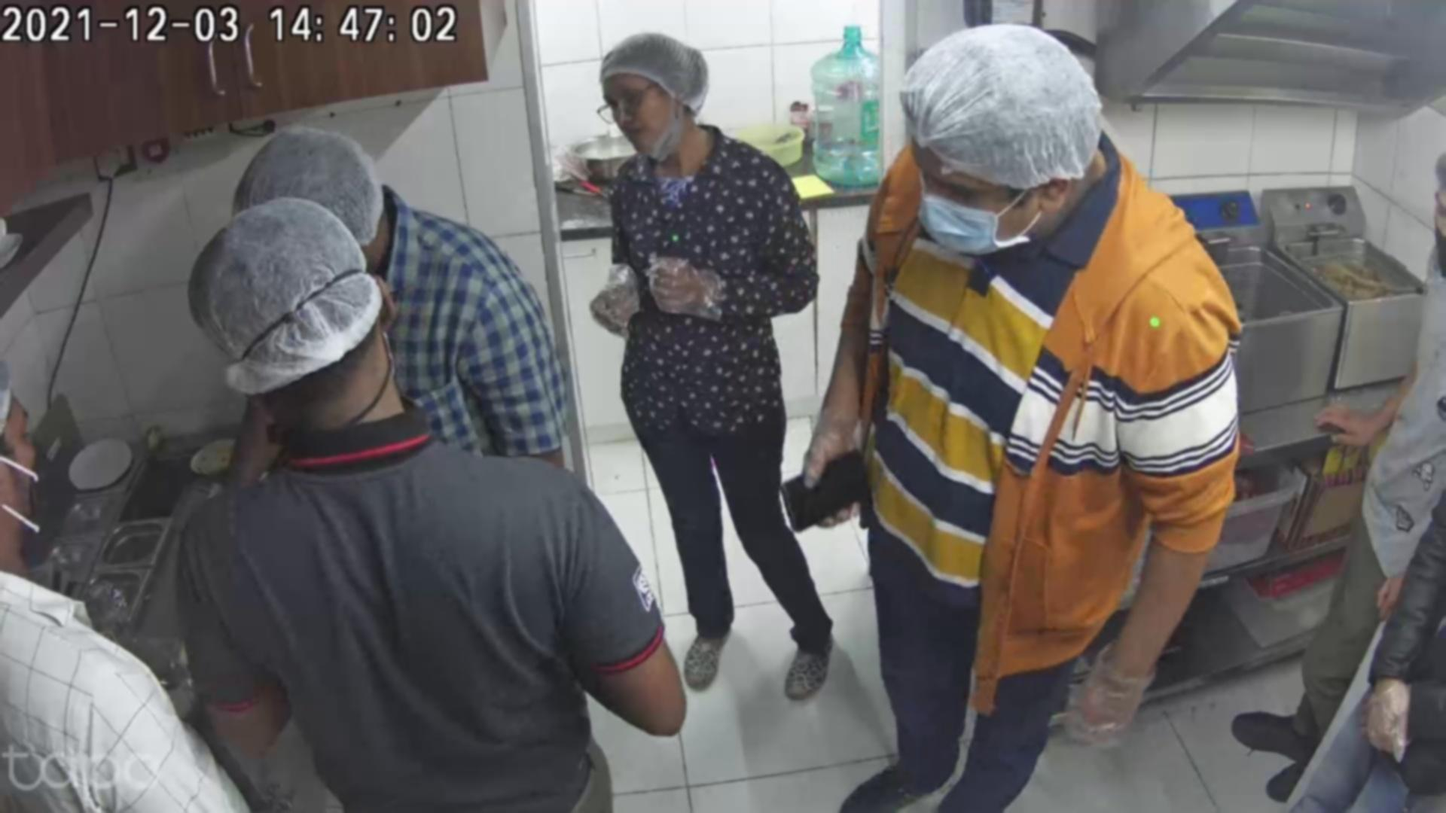apron: (1065, 646, 1163, 761), (792, 397, 871, 531), (1331, 673, 1437, 769), (648, 239, 740, 339), (583, 247, 644, 336)
gloves: (894, 8, 1128, 207), (187, 212, 395, 384), (227, 126, 391, 234), (606, 28, 721, 108)
mask: (0, 428, 84, 574), (920, 167, 1022, 253)
no_apron: (1304, 392, 1399, 455), (1361, 558, 1429, 617)
no_hairnet: (602, 70, 673, 153)
